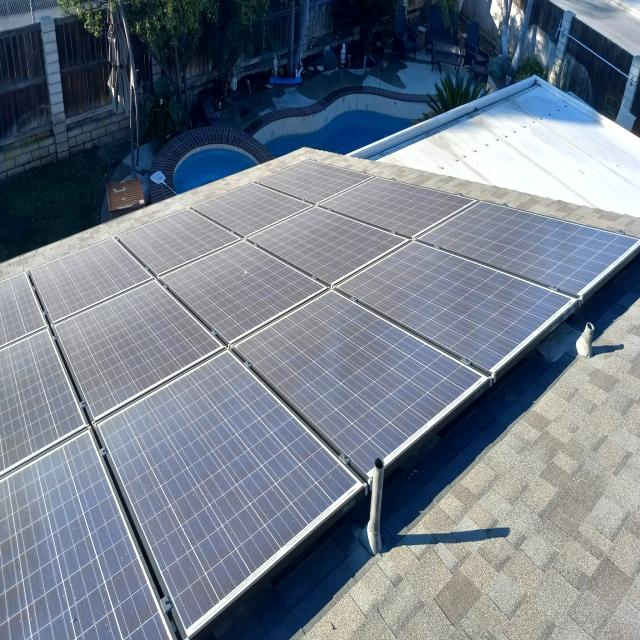dust: (216, 242, 274, 301)
